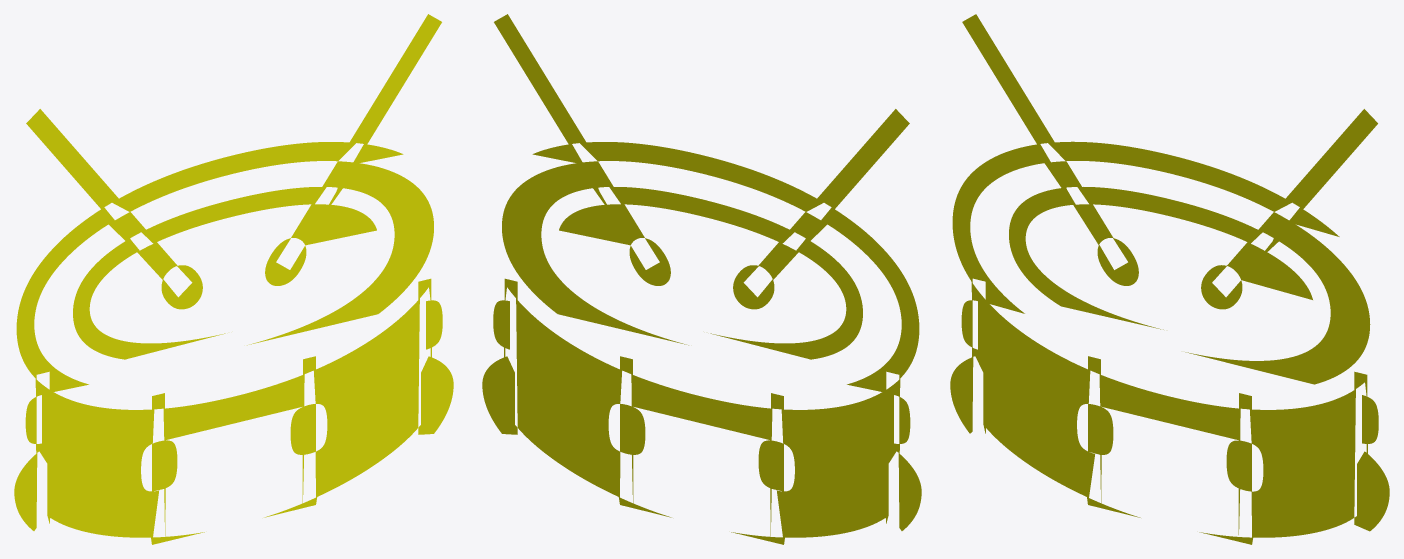
File: drum_with_drumsticks.glb
The picture shows the model from 3 angles, left to right: view 1: azimuth 30°, elevation 25°; view 2: azimuth 150°, elevation 25°; view 3: azimuth 330°, elevation 25°; orthographic projection.
Visible parts, largest first — view 1: Text.695_695; view 2: Text.695_695; view 3: Text.695_695.
Boxes of the visible parts, x1,y1,x2,y2 form: Text.695_695: (14, 14, 453, 544); Text.695_695: (482, 14, 921, 544); Text.695_695: (950, 14, 1389, 544).
Size of the model in its own units: 0.967 by 0.9753 by 3.45e-06.
